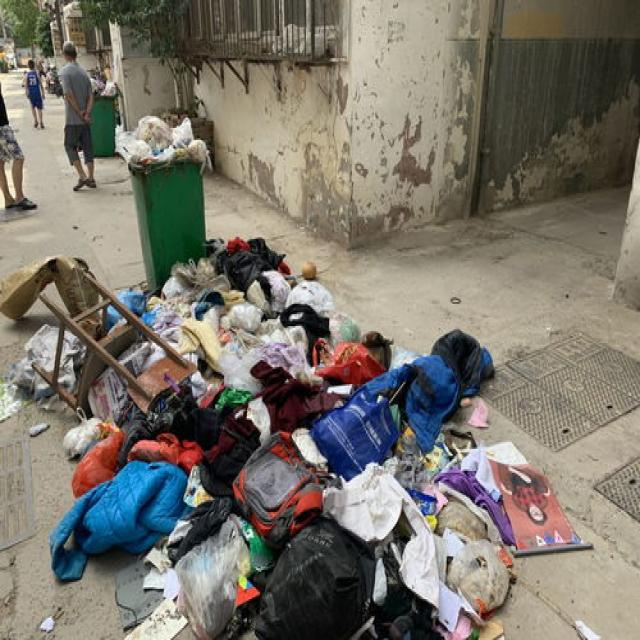garbage: (0, 234, 598, 638)
overflow: (113, 112, 211, 292), (83, 74, 119, 156)
